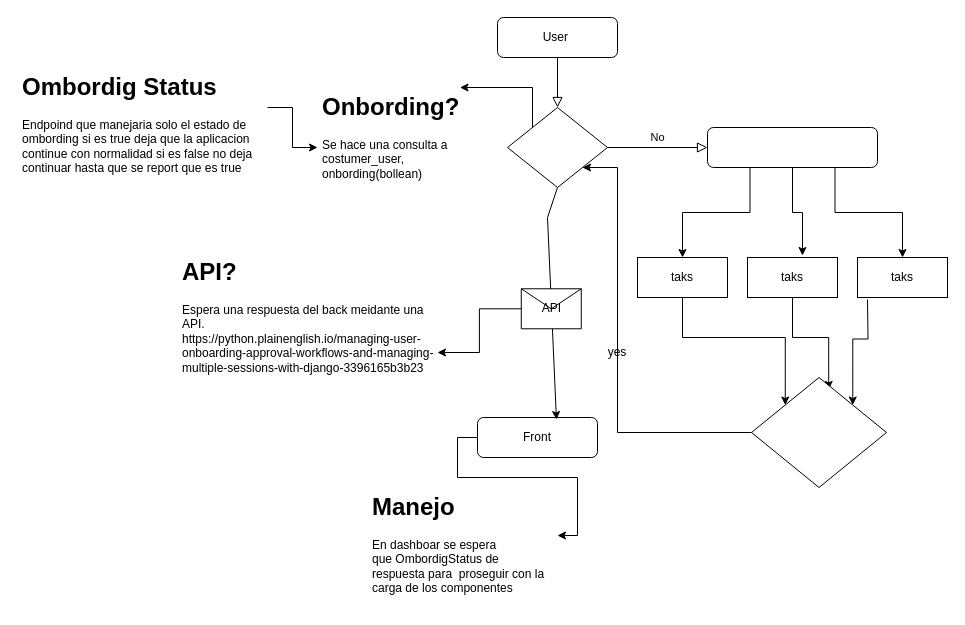
Image size: 965x625. Some labels were removed from this diagram. Each missing label, with the centre of its shape:
"def handle_user_onboarding" goes at pixel 792 147.
"Ombordig Status" goes at pixel 557 147.
"Task end" goes at pixel 818 432.
